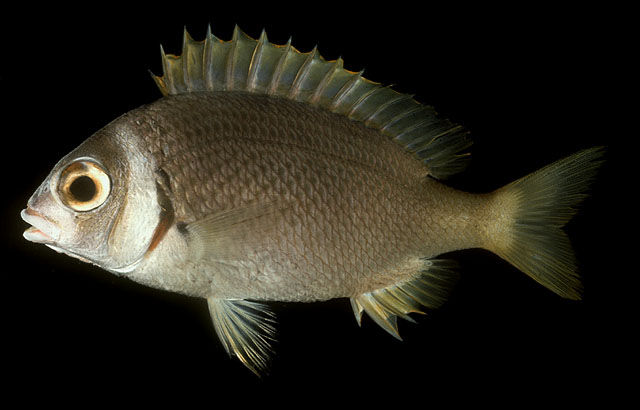fish: (20, 23, 607, 377)
